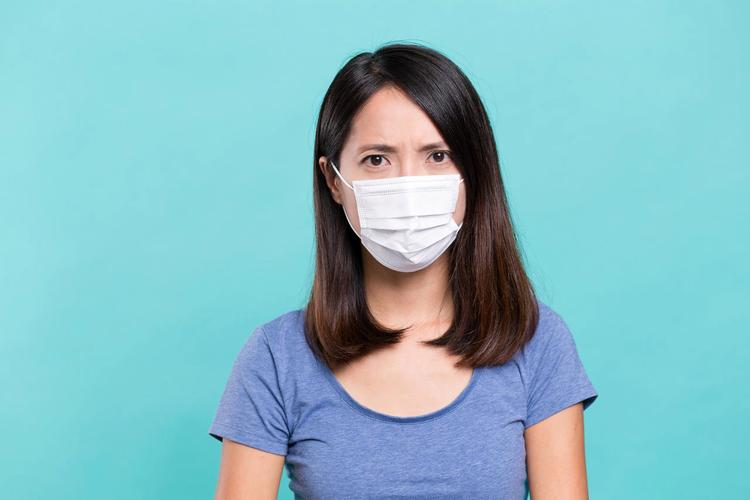mask: (336, 77, 469, 278)
